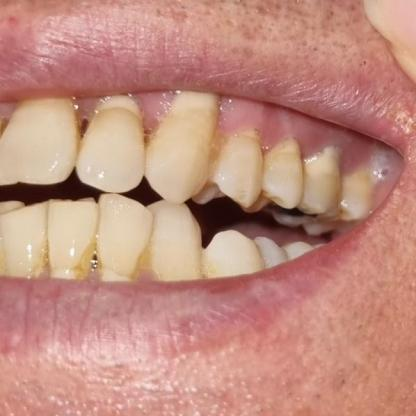Crowding: (101, 199, 191, 263)
